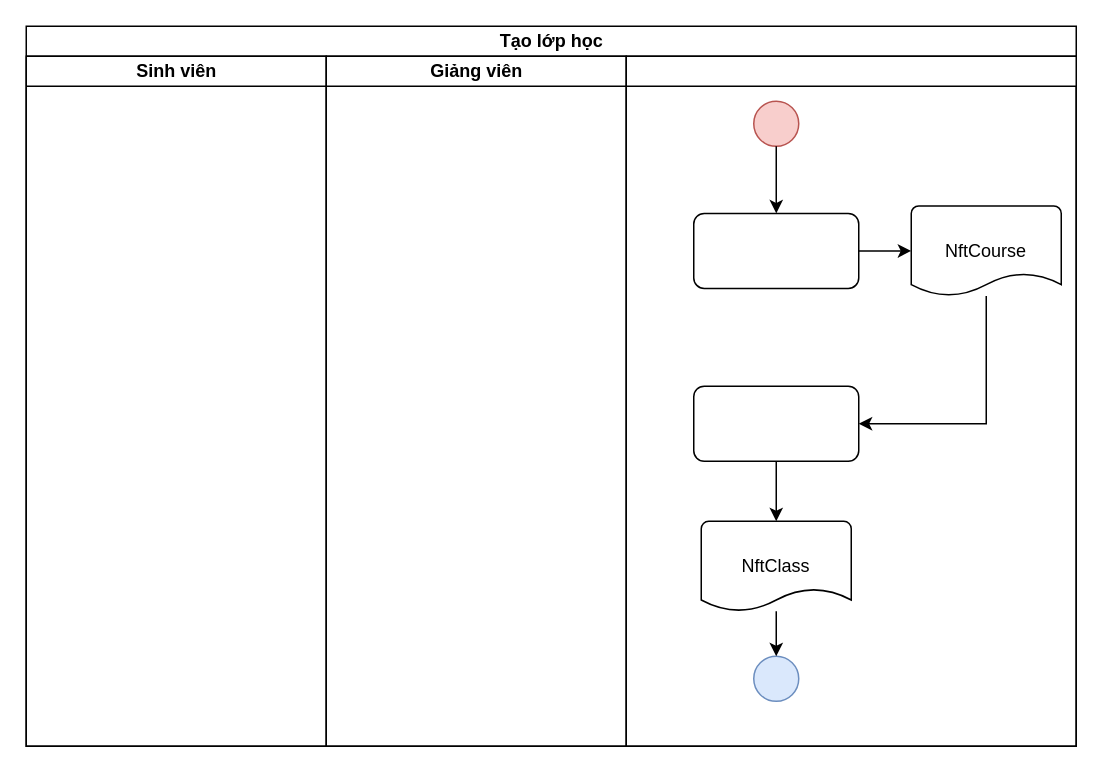
This 1103x773 diagram has some shape labels left out. The shapes that lost their labels are listed below. From the top down, each one's box as (x1, y1, x2, y2) in pixels, then its label:
(692, 212, 859, 288): Tạo môn học
(625, 55, 1076, 746): Đào tạo
(692, 385, 859, 461): Tạo học phần Assign giảng viên
